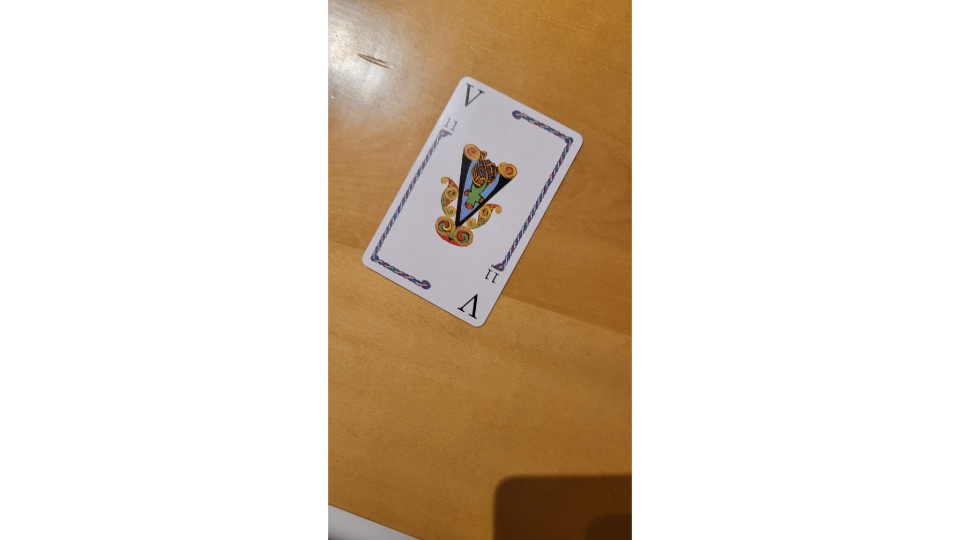V: (359, 75, 587, 329)
